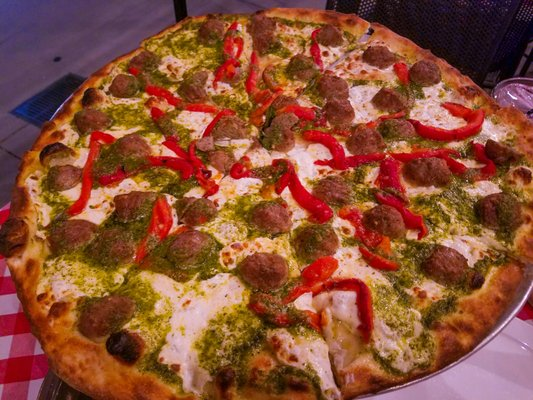sandwich: (6, 3, 533, 400)
